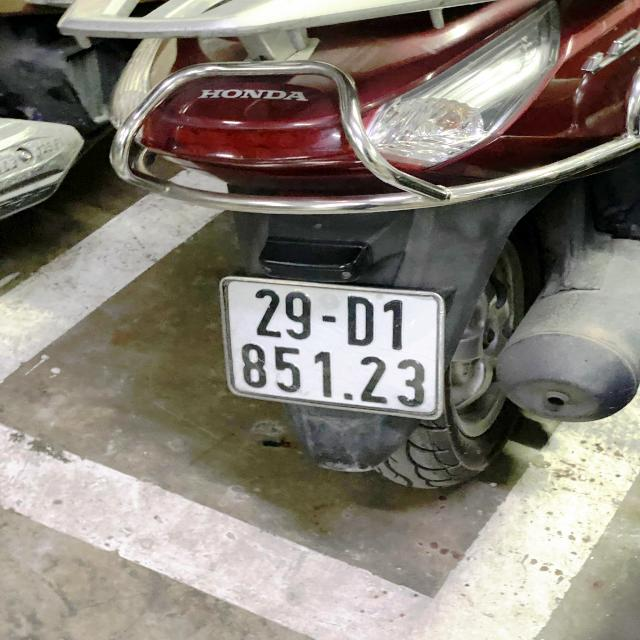license_plate: (208, 271, 457, 429)
